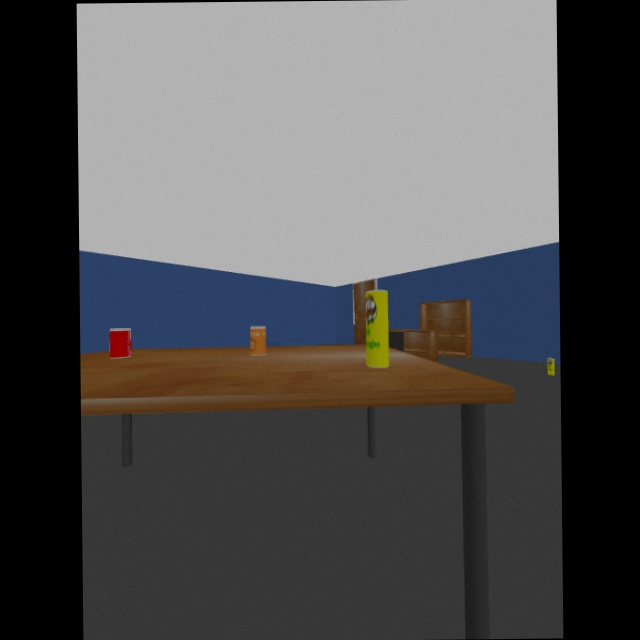chipsdose_gelb: (366, 290, 389, 368), (546, 356, 555, 376)
